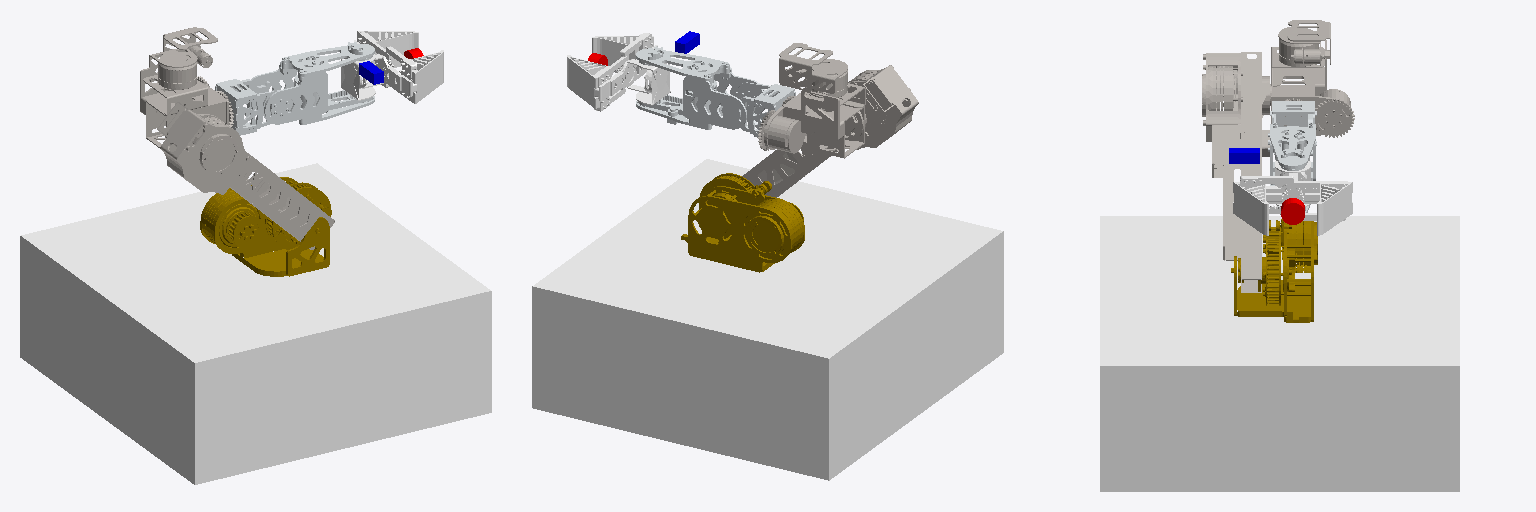
URDF robot description (new_wust):
<?xml version="1.0"?>
<robot name="new_wust">
  <link name="base">
    <inertial>
      <origin xyz="-0.05275621 0 -0.114" rpy="0 0 0"/>
      <mass value="77.64268623"/>
      <inertia ixx="2.59957459" ixy="0" ixz="0" iyy="2.52245405" iyz="0" izz="4.4493324"/>
    </inertial>
    <visual>
      <origin xyz="0 0 0" rpy="0 0 0"/>
      <geometry><mesh filename="package://new_wust_description/meshes/base_collision.stl"/></geometry>
      <material name="base_color"><color rgba="1 1 1 1"/></material>
    </visual>
    <collision>
      <origin xyz="0 0 0" rpy="0 0 0"/>
      <geometry><mesh filename="package://new_wust_description/meshes/base_collision.stl"/></geometry>
    </collision>
  </link>
  <link name="link1">
    <inertial>
      <origin xyz="-0.02727394 0.00842308 0.06055814" rpy="0 0 0"/>
      <mass value="2.63911029"/>
      <inertia ixx="0.0056987" ixy="0.00178451" ixz="0.0008721" iyy="0.01110114" iyz="-0.00033231" izz="0.0105227"/>
    </inertial>
    <visual>
      <origin xyz="0 0 0" rpy="0 0 0"/>
      <geometry><mesh filename="package://new_wust_description/meshes/link1_collision.stl"/></geometry>
      <material name="link1_color"><color rgba="0.64705882 0.51764706 0 1"/></material>
    </visual>
    <collision>
      <origin xyz="0 0 0" rpy="0 0 0"/>
      <geometry><mesh filename="package://new_wust_description/meshes/link1_collision.stl"/></geometry>
    </collision>
  </link>
  <link name="link2">
    <inertial>
      <origin xyz="-0.1969102 -0.08309513 0.18808011" rpy="0 0 0"/>
      <mass value="2.16839329"/>
      <inertia ixx="0.01003323" ixy="-0.00117634" ixz="0.00714971" iyy="0.01702904" iyz="0.00107855" izz="0.01078354"/>
    </inertial>
    <visual>
      <origin xyz="0 0 0" rpy="0 0 0"/>
      <geometry><mesh filename="package://new_wust_description/meshes/link2_collision.stl"/></geometry>
      <material name="link2_color"><color rgba="0.77647059 0.75686275 0.7372549 1"/></material>
    </visual>
    <collision>
      <origin xyz="0 0 0" rpy="0 0 0"/>
      <geometry><mesh filename="package://new_wust_description/meshes/link2_collision.stl"/></geometry>
    </collision>
  </link>
  <link name="link3">
    <inertial>
      <origin xyz="0.03246142 0.15810874 0.05239528" rpy="0 0 0"/>
      <mass value="1.95129296"/>
      <inertia ixx="0.00805887" ixy="-0.00084279" ixz="0.00121672" iyy="0.00793828" iyz="0.00012153" izz="0.00486219"/>
    </inertial>
    <visual>
      <origin xyz="0 0 0" rpy="0 0 0"/>
      <geometry><mesh filename="package://new_wust_description/meshes/link3_collision.stl"/></geometry>
      <material name="link3_color"><color rgba="0.77647059 0.75686275 0.7372549 1"/></material>
    </visual>
    <collision>
      <origin xyz="0 0 0" rpy="0 0 0"/>
      <geometry><mesh filename="package://new_wust_description/meshes/link3_collision.stl"/></geometry>
    </collision>
  </link>
  <link name="link4">
    <inertial>
      <origin xyz="0.06590589 0.00030868 -0.0001022" rpy="0 0 0"/>
      <mass value="0.54710506"/>
      <inertia ixx="0.00050822" ixy="0.00002396" ixz="-5.4e-7" iyy="0.00096167" iyz="8.2e-7" izz="0.00106722"/>
    </inertial>
    <visual>
      <origin xyz="0 0 0" rpy="0 0 0"/>
      <geometry><mesh filename="package://new_wust_description/meshes/link4_collision.stl"/></geometry>
      <material name="link4_color"><color rgba="0.89803922 0.91764706 0.92941176 1"/></material>
    </visual>
    <collision>
      <origin xyz="0 0 0" rpy="0 0 0"/>
      <geometry><mesh filename="package://new_wust_description/meshes/link4_collision.stl"/></geometry>
    </collision>
  </link>
  <link name="link5">
    <inertial>
      <origin xyz="0.0697811 -0.01344256 0.00004184" rpy="0 0 0"/>
      <mass value="0.59565109"/>
      <inertia ixx="0.00060321" ixy="0.00000739" ixz="0.00000299" iyy="0.00068739" iyz="-7.3e-7" izz="0.00062993"/>
    </inertial>
    <visual>
      <origin xyz="0 0 0" rpy="0 0 0"/>
      <geometry><mesh filename="package://new_wust_description/meshes/link5_collision.stl"/></geometry>
      <material name="link5_color"><color rgba="0.89803922 0.91764706 0.92941176 1"/></material>
    </visual>
    <collision>
      <origin xyz="0 0 0" rpy="0 0 0"/>
      <geometry><mesh filename="package://new_wust_description/meshes/link5_collision.stl"/></geometry>
    </collision>
  </link>
  <link name="link6">
    <inertial>
      <origin xyz="0.0626967 0.00108019 -0.01078724" rpy="0 0 0"/>
      <mass value="0.28529112"/>
      <inertia ixx="0.00061516" ixy="0.00000854" ixz="0.00000796" iyy="0.00106579" iyz="0.00001387" izz="0.00061896"/>
    </inertial>
    <visual>
      <origin xyz="0 0 0" rpy="0 0 0"/>
      <geometry><mesh filename="package://new_wust_description/meshes/link6_collision.stl"/></geometry>
      <material name="link6_color"><color rgba="0.89803922 0.91764706 0.92941176 1"/></material>
    </visual>
    <collision>
      <origin xyz="0 0 0" rpy="0 0 0"/>
      <geometry><mesh filename="package://new_wust_description/meshes/link6_collision.stl"/></geometry>
    </collision>
  </link>
  <link name="link7">
    <inertial>
      <origin xyz="0.0502124 -0.00004321 -0.00014695" rpy="0 0 0"/>
      <mass value="1.13909779"/>
      <inertia ixx="0.0025491" ixy="-0.00000359" ixz="-0.0000047" iyy="0.00253909" iyz="0.00006385" izz="0.00450439"/>
    </inertial>
    <visual>
      <origin xyz="0 0 0" rpy="0 0 0"/>
      <geometry><mesh filename="package://new_wust_description/meshes/link7_collision.stl"/></geometry>
      <material name="link7_color"><color rgba="1 1 1 1"/></material>
    </visual>
    <collision>
      <origin xyz="0 0 0" rpy="0 0 0"/>
      <geometry><mesh filename="package://new_wust_description/meshes/link7_collision.stl"/></geometry>
    </collision>
  </link>
    <link name="LINK_TCP">
    <inertial>
      <origin xyz="0 0 0" rpy="0 0 0"/>
      <mass value="0.1"/>
      <inertia ixx="1e-5" ixy="0" ixz="0" iyy="1e-5" iyz="0" izz="1e-5"/>
    </inertial>
    <visual>
      <origin xyz="0 0 0" rpy="0 0 0"/>
      <geometry><cylinder radius="0.02" length="0.02"/></geometry>
      <material name="LINK_TCP_color"><color rgba="1 0 0 1"/></material>   <!-- 红色，方便看 -->
    </visual>
  </link>
  <link name="camera_link">
    <visual>
      <geometry><box size="0.02 0.05 0.02"/></geometry>     <!-- 旧模型的尺寸 -->
      <material name="blue"><color rgba="0 0 1 1"/></material>
    </visual>
  </link>

  <link name="camera_optical_frame">                           <!-- 不留任何几何体 -->
  </link>

  <joint name="joint1" type="revolute">
    <parent link="base"/>
    <child link="link1"/>
    <origin xyz="0 0 0" rpy="0 0 0"/>
    <axis xyz="0 0 -1"/>
    <limit lower="-3.14" upper="3.14" effort="10" velocity="3"/>
  </joint>
  <joint name="joint2" type="revolute">
    <parent link="link1"/>
    <child link="link2"/>
    <origin xyz="0.02424 0.0072 0.073" rpy="0 0 0"/>
    <axis xyz="0 1 0"/>
    <limit lower="-3.14" upper="3.14" effort="10" velocity="3"/>
  </joint>
  <joint name="joint3" type="revolute">
    <parent link="link2"/>
    <child link="link3"/>
    <origin xyz="-0.22100422 -0.1247 0.21453973" rpy="0 0 0"/>
    <axis xyz="0 -1 0"/>
    <limit lower="-3.14" upper="3.14" effort="10" velocity="3"/>
  </joint>
  <joint name="joint4" type="revolute">
    <parent link="link3"/>
    <child link="link4"/>
    <origin xyz="0.072 0.1396 0" rpy="0 0 0"/>
    <axis xyz="1 0 0"/>
    <limit lower="-3.14" upper="3.14" effort="10" velocity="3"/>
  </joint>
  <joint name="joint5" type="revolute">
    <parent link="link4"/>
    <child link="link5"/>
    <origin xyz="0.112 0.013075 0" rpy="0 0 0"/>
    <axis xyz="0 -1 0"/>
    <limit lower="-3.14" upper="3.14" effort="10" velocity="3"/>
  </joint>
  <joint name="joint6" type="revolute">
    <parent link="link5"/>
    <child link="link6"/>
    <origin xyz="0.08050003 -0.0137 0.0135" rpy="0 0 0"/>
    <axis xyz="0 0 -1"/>
    <limit lower="-3.14" upper="3.14" effort="10" velocity="3"/>
  </joint>
  <joint name="joint7" type="revolute">
    <parent link="link6"/>
    <child link="link7"/>
    <origin xyz="0.0715 0 -0.0068" rpy="0 0 0"/>
    <axis xyz="-1 0 0"/>
    <limit lower="-3.14" upper="3.14" effort="10" velocity="3"/>
  </joint>
  <joint name="vacuum_tcp" type="fixed">
    <origin xyz="0.13 0 0" rpy="0 1.5708 0"/>
    <parent link="link7"/> <child link="LINK_TCP"/>
  </joint>
  <joint name="camera_joint" type="fixed">
      <origin xyz="0 -0.08 0.04" rpy="3.1416 0 3.1416"/>
      <parent link="link7"/> <child link="camera_link"/>
  </joint>
  <joint name="camera_optical_joint" type="fixed">
    <origin xyz="0 0 0" rpy="0 0 0"/>
    <parent link="camera_link"/> <child link="camera_optical_frame"/>
  </joint>
</robot>

--- Facts derived from the render (not from the file) ---
3 views of the same robot in one strip: view 1: azimuth 30°, elevation 25°; view 2: azimuth 150°, elevation 25°; view 3: azimuth 270°, elevation 25° (orthographic).
Robot: new_wust — 11 links, 10 joints (7 revolute, 3 fixed); root link base; default pose: every joint at zero.
Visible links, largest first — view 1: base, link2, link1, link3, link7, link5, link6, link4; view 2: base, link1, link3, link2, link7, link5, link6, link4; view 3: base, link2, link1, link3, link7, link6, link4, LINK_TCP.
Boxes of the visible links, x1,y1,x2,y2 form: base: (20,163,491,484); link2: (157,102,334,249); link1: (200,177,331,276); link3: (140,27,233,148); link7: (341,31,443,103); link5: (244,56,327,124); link6: (282,42,374,124); link4: (215,79,292,135); base: (532,159,1003,480); link1: (681,173,804,272); link3: (758,43,865,158); link2: (742,65,918,197); link7: (567,33,670,111); link5: (683,61,767,129); link6: (636,46,729,129); link4: (723,82,795,137); base: (1100,216,1459,491); link2: (1202,52,1269,292); link1: (1231,219,1317,322); link3: (1270,20,1354,137); link7: (1233,161,1352,235); link6: (1270,125,1315,214); link4: (1268,101,1316,159); LINK_TCP: (1281,198,1304,224).
Size in the robot's own frame: 0.6453 by 0.59 by 0.6532 metres.
8 mesh visuals loaded from 8 distinct referenced files (8 binary STL).
